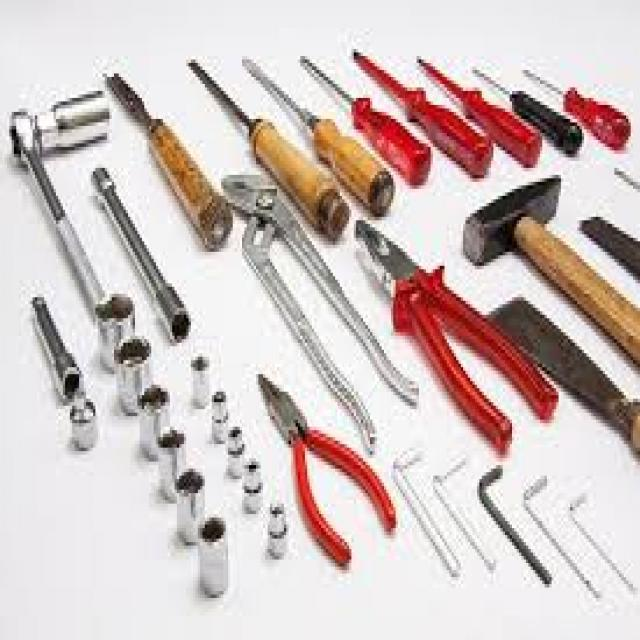hammer: (461, 166, 640, 362)
screwdriver: (291, 40, 433, 187), (349, 42, 498, 178), (415, 50, 546, 170), (472, 64, 584, 156), (522, 61, 634, 152)
